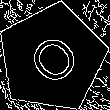O_SE: (19, 25, 86, 91)
